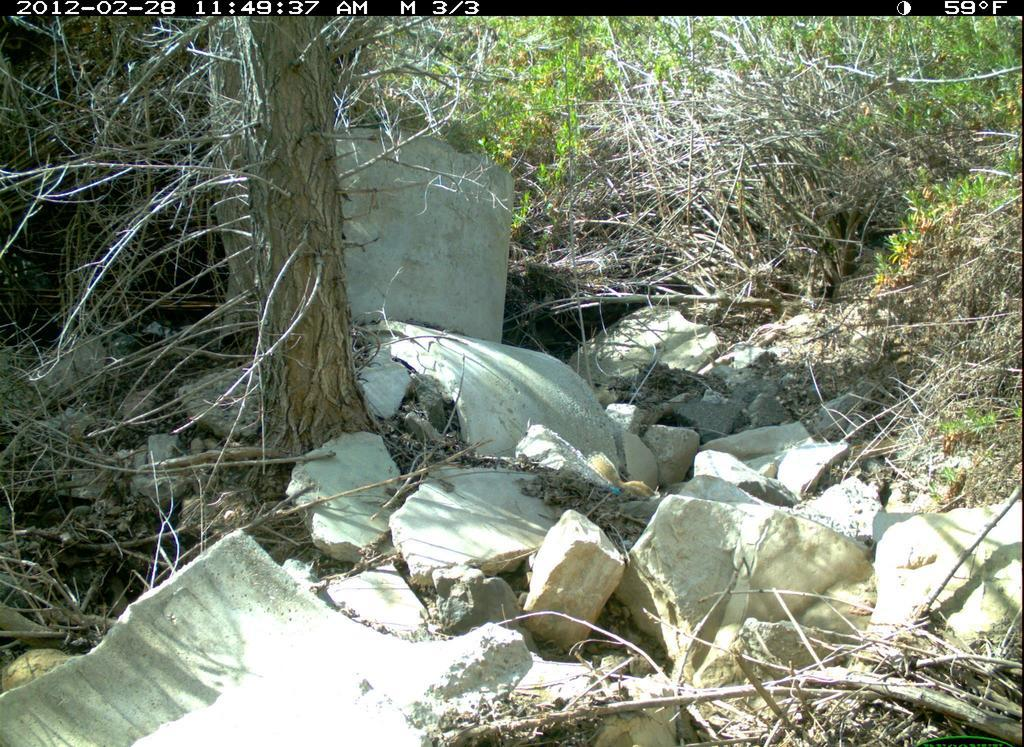squirrel: (586, 449, 665, 502)
